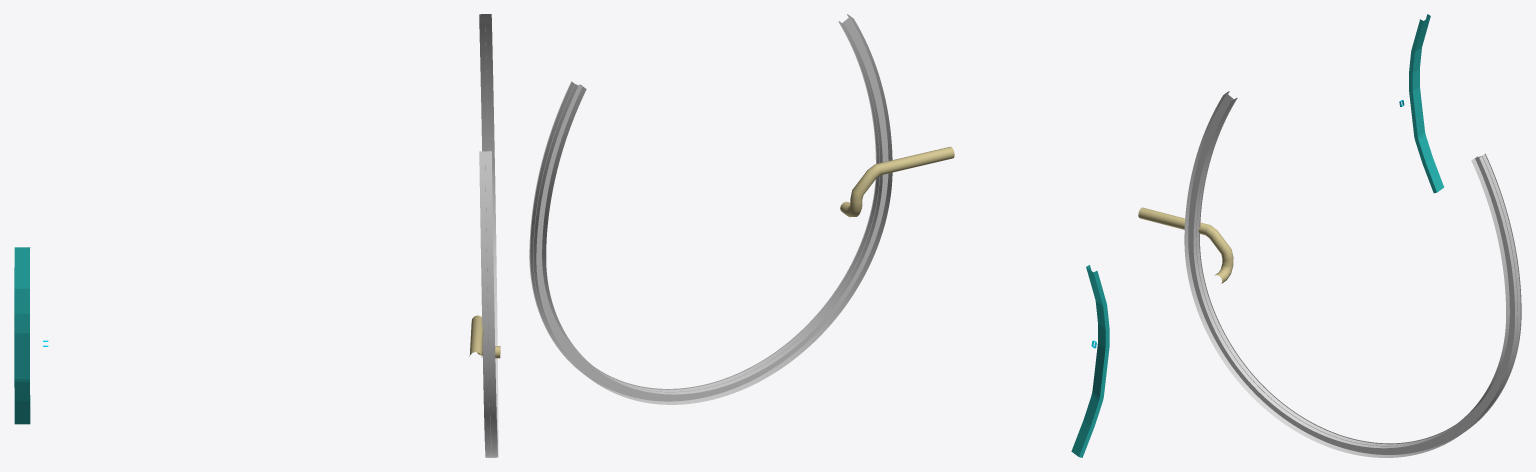
The model's file is tile_454.glb.
3 renders of one model, left to right at view 1: azimuth 30°, elevation 25°; view 2: azimuth 150°, elevation 25°; view 3: azimuth 270°, elevation 25°, orthographic. The views are drawn at different scales.
Bounding box in the file's own units: 7.93 × 5.04 × 5.39.
